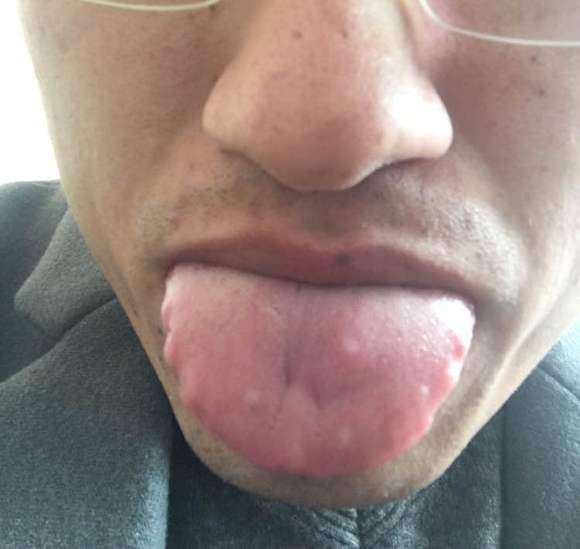baitaishe: (161, 261, 475, 476)
chihenshe: (161, 297, 190, 410)
liewenshe: (276, 349, 294, 407)
pangdashe: (161, 261, 475, 476)
